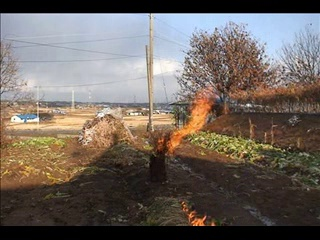fire: (155, 87, 214, 155), (179, 196, 219, 226)
